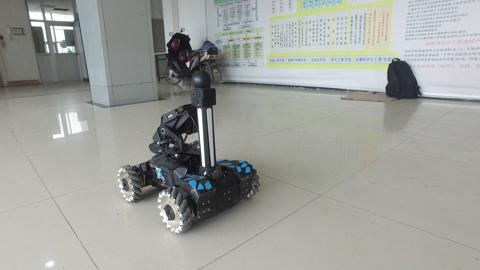bag: (378, 57, 428, 105)
chariot: (99, 70, 272, 241)
